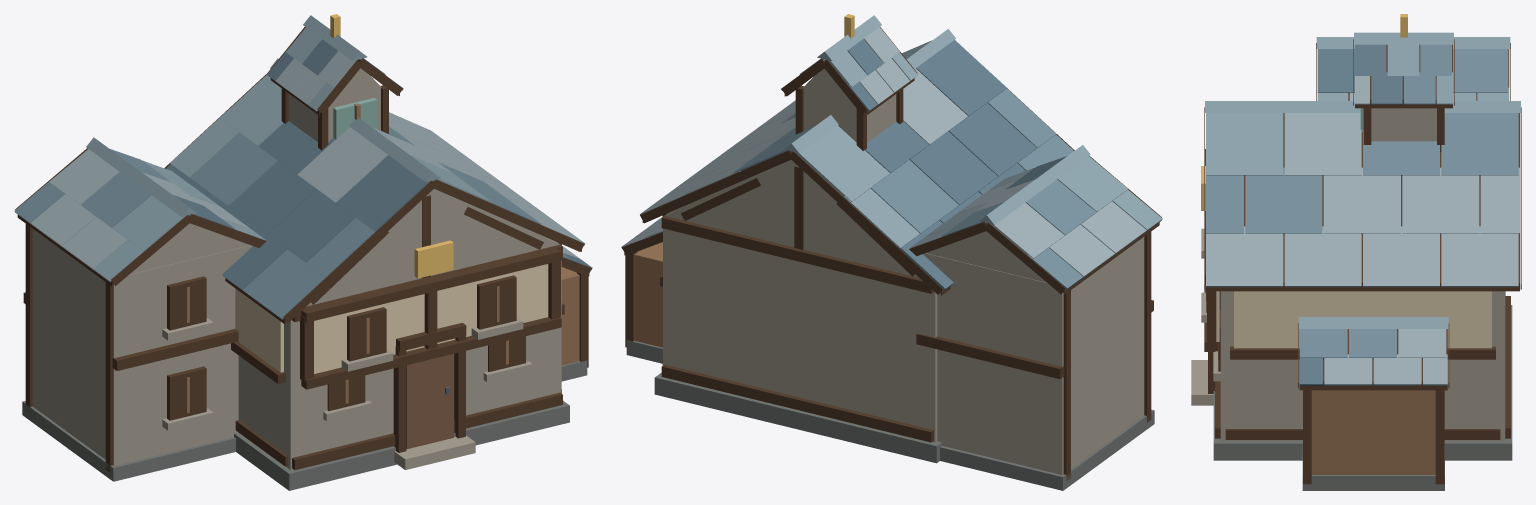
The model's file is ENV_Civic_guild_LOD1.glb.
The picture shows the model from 3 angles, left to right: view 1: azimuth 30°, elevation 25°; view 2: azimuth 150°, elevation 25°; view 3: azimuth 270°, elevation 25°; orthographic projection.
Parts seen in each view (by area): view 1: ENV_Civic_guild_LOD1_roof_roofTiles, ENV_Civic_guild_LOD1_stage7_upper_wing_stone, ENV_Civic_guild_LOD1_shell_stone, ENV_Civic_guild_LOD1_stage7_upper_wing_roofTiles, ENV_Civic_guild_LOD1_guild_hall_woodDark, ENV_Civic_guild_LOD1_shell_woodDark, ENV_Civic_guild_LOD1_stage7_upper_wing_woodDark, ENV_Civic_guild_LOD1_guild_hall_plasterIvory, ENV_Civic_guild_LOD1_foundation_stoneDark, ENV_Civic_guild_LOD1_stage8_roof_lantern_roofTiles, ENV_Civic_guild_LOD1_shell_wood, ENV_Civic_guild_LOD1_roof_woodDark (+8 smaller); view 2: ENV_Civic_guild_LOD1_shell_stone, ENV_Civic_guild_LOD1_stage7_upper_wing_stone, ENV_Civic_guild_LOD1_roof_roofTiles, ENV_Civic_guild_LOD1_stage7_upper_wing_roofTiles, ENV_Civic_guild_LOD1_shell_woodDark, ENV_Civic_guild_LOD1_stage7_upper_wing_woodDark, ENV_Civic_guild_LOD1_foundation_stoneDark, ENV_Civic_guild_LOD1_stage8_roof_lantern_roofTiles, ENV_Civic_guild_LOD1_stage7_upper_wing_stoneDark, ENV_Civic_guild_LOD1_roof_woodDark, ENV_Civic_guild_LOD1_stage8_roof_lantern_stone, ENV_Civic_guild_LOD1_stage5_shed_woodLight (+3 smaller); view 3: ENV_Civic_guild_LOD1_roof_roofTiles, ENV_Civic_guild_LOD1_shell_stone, ENV_Civic_guild_LOD1_stage5_shed_woodLight, ENV_Civic_guild_LOD1_guild_hall_plasterIvory, ENV_Civic_guild_LOD1_stage5_shed_roofTiles, ENV_Civic_guild_LOD1_stage8_roof_lantern_roofTiles, ENV_Civic_guild_LOD1_stage7_upper_wing_roofTiles, ENV_Civic_guild_LOD1_foundation_stoneDark, ENV_Civic_guild_LOD1_roof_woodDark, ENV_Civic_guild_LOD1_shell_woodDark, ENV_Civic_guild_LOD1_stage5_shed_woodDark, ENV_Civic_guild_LOD1_guild_hall_woodDark (+3 smaller).
Part boxes in pixels (left/top/right/bottom): ENV_Civic_guild_LOD1_roof_roofTiles: left=166, top=58, right=585, bottom=319; ENV_Civic_guild_LOD1_stage7_upper_wing_stone: left=32, top=223, right=252, bottom=465; ENV_Civic_guild_LOD1_shell_stone: left=238, top=189, right=561, bottom=469; ENV_Civic_guild_LOD1_stage7_upper_wing_roofTiles: left=14, top=137, right=266, bottom=281; ENV_Civic_guild_LOD1_guild_hall_woodDark: left=231, top=247, right=564, bottom=389; ENV_Civic_guild_LOD1_shell_woodDark: left=235, top=195, right=562, bottom=469; ENV_Civic_guild_LOD1_stage7_upper_wing_woodDark: left=15, top=148, right=266, bottom=472; ENV_Civic_guild_LOD1_guild_hall_plasterIvory: left=235, top=264, right=548, bottom=373; ENV_Civic_guild_LOD1_foundation_stoneDark: left=234, top=400, right=569, bottom=490; ENV_Civic_guild_LOD1_stage8_roof_lantern_roofTiles: left=267, top=15, right=403, bottom=111; ENV_Civic_guild_LOD1_shell_wood: left=406, top=354, right=453, bottom=449; ENV_Civic_guild_LOD1_roof_woodDark: left=164, top=73, right=584, bottom=324; ENV_Civic_guild_LOD1_shell_stone: left=663, top=160, right=937, bottom=442; ENV_Civic_guild_LOD1_stage7_upper_wing_stone: left=923, top=231, right=1144, bottom=474; ENV_Civic_guild_LOD1_roof_roofTiles: left=640, top=29, right=1073, bottom=290; ENV_Civic_guild_LOD1_stage7_upper_wing_roofTiles: left=909, top=145, right=1162, bottom=290; ENV_Civic_guild_LOD1_shell_woodDark: left=661, top=166, right=933, bottom=442; ENV_Civic_guild_LOD1_stage7_upper_wing_woodDark: left=909, top=156, right=1161, bottom=481; ENV_Civic_guild_LOD1_foundation_stoneDark: left=654, top=372, right=941, bottom=463; ENV_Civic_guild_LOD1_stage8_roof_lantern_roofTiles: left=781, top=15, right=917, bottom=111; ENV_Civic_guild_LOD1_stage7_upper_wing_stoneDark: left=940, top=409, right=1154, bottom=490; ENV_Civic_guild_LOD1_roof_woodDark: left=640, top=88, right=1074, bottom=295; ENV_Civic_guild_LOD1_stage8_roof_lantern_stone: left=803, top=68, right=896, bottom=142; ENV_Civic_guild_LOD1_stage5_shed_woodLight: left=634, top=242, right=662, bottom=347; ENV_Civic_guild_LOD1_roof_roofTiles: left=1205, top=101, right=1520, bottom=287; ENV_Civic_guild_LOD1_shell_stone: left=1191, top=291, right=1505, bottom=441; ENV_Civic_guild_LOD1_stage5_shed_woodLight: left=1311, top=390, right=1435, bottom=474; ENV_Civic_guild_LOD1_guild_hall_plasterIvory: left=1216, top=291, right=1491, bottom=348; ENV_Civic_guild_LOD1_stage5_shed_roofTiles: left=1298, top=317, right=1448, bottom=385; ENV_Civic_guild_LOD1_stage8_roof_lantern_roofTiles: left=1354, top=32, right=1453, bottom=104; ENV_Civic_guild_LOD1_stage7_upper_wing_roofTiles: left=1316, top=37, right=1510, bottom=100; ENV_Civic_guild_LOD1_foundation_stoneDark: left=1213, top=305, right=1512, bottom=460; ENV_Civic_guild_LOD1_roof_woodDark: left=1204, top=107, right=1521, bottom=291; ENV_Civic_guild_LOD1_shell_woodDark: left=1208, top=296, right=1510, bottom=439; ENV_Civic_guild_LOD1_stage5_shed_woodDark: left=1298, top=323, right=1449, bottom=484; ENV_Civic_guild_LOD1_guild_hall_woodDark: left=1204, top=149, right=1495, bottom=359.
Size of the model in its own units: 8.76 by 6.55 by 5.22.
